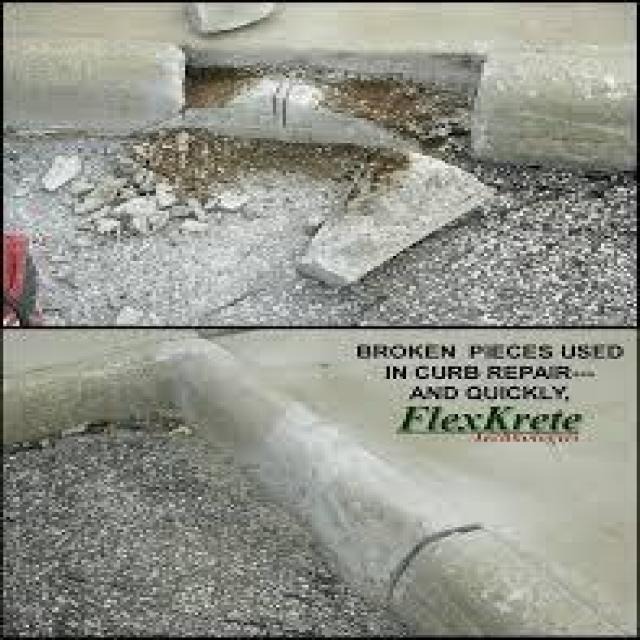curb: (467, 52, 631, 185), (0, 42, 187, 140)
